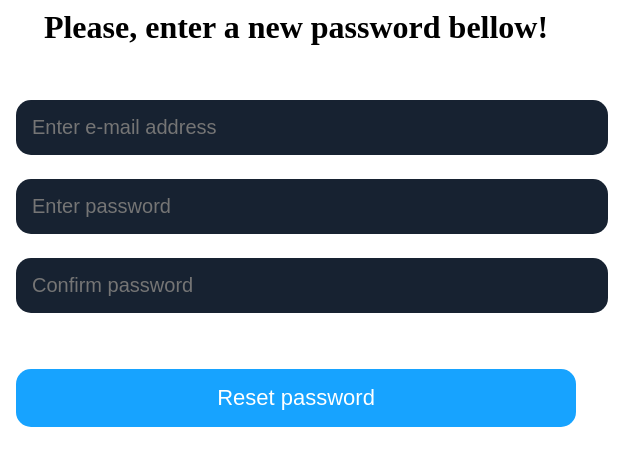
Test case: RecoveryPassword › Should be error when passing two different passwords
In the field with test id "email": (312, 128) x1=16 y1=100 x2=608 y2=155, type "email@host.com"
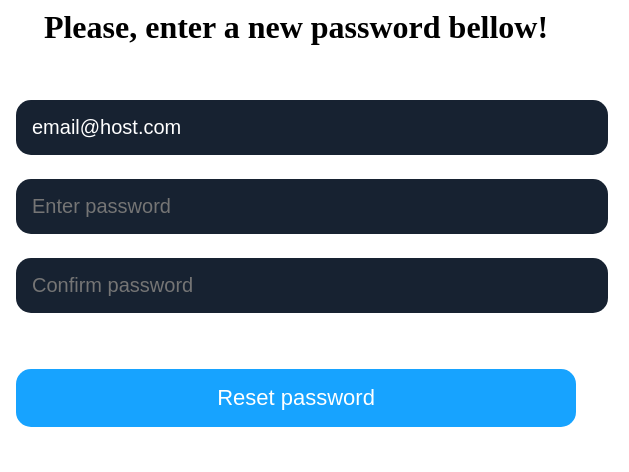
In the password field with test id "password": (312, 207) x1=16 y1=179 x2=608 y2=234, type "mySecretPassword2"
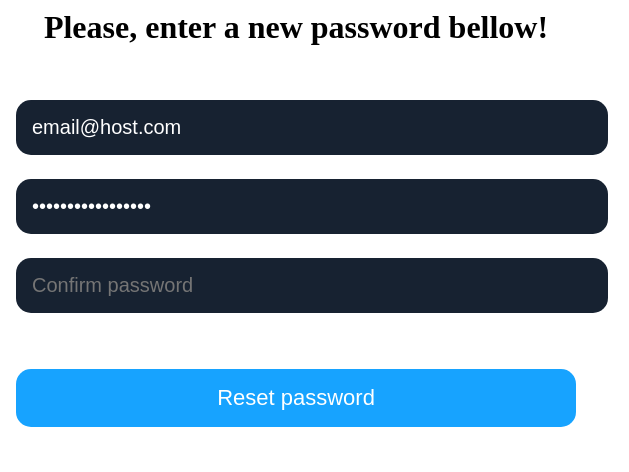
In the password field with test id "submitPassword": (312, 286) x1=16 y1=258 x2=608 y2=313, type "myMisspelledSecretPassword"
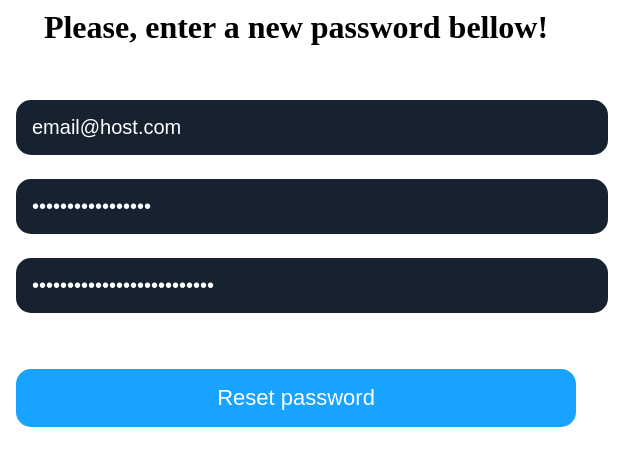
Click the submit button: (296, 398) x1=16 y1=369 x2=576 y2=427
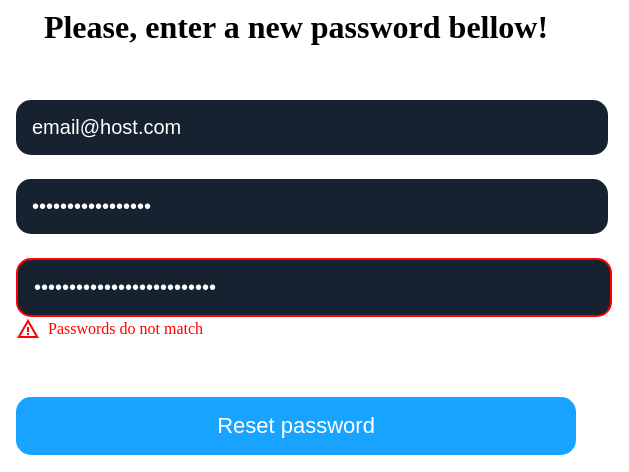
expect the element with test id "error" is shown: met, box x1=16 y1=317 x2=203 y2=341
